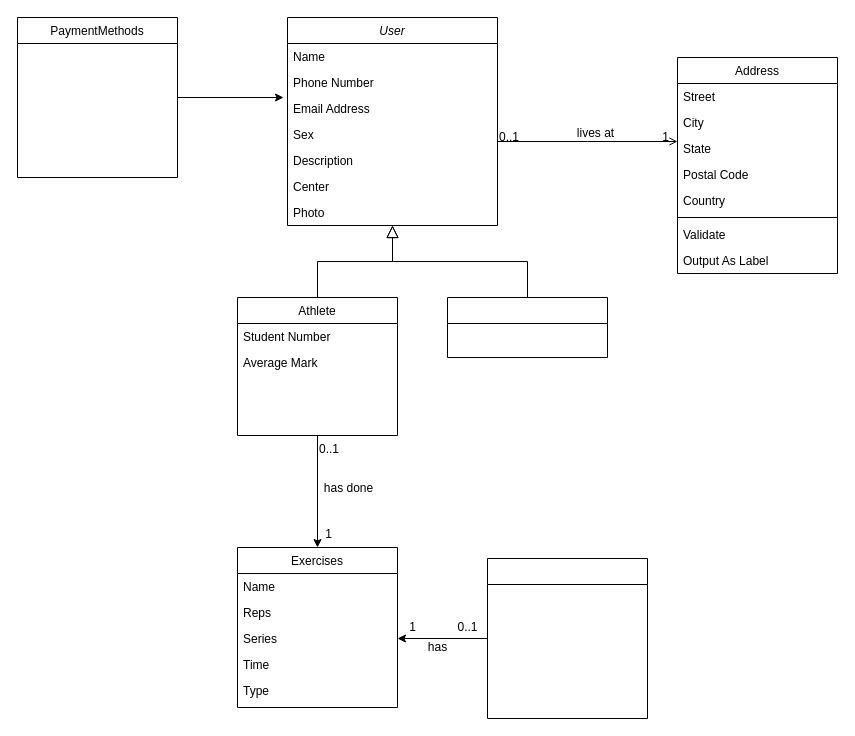
This 855x736 diagram has some shape labels left out. Here are the shapes that lost their labels. From the top down, the centre of each, then its label:
point (527, 327): Admin
point (567, 638): Trainings
